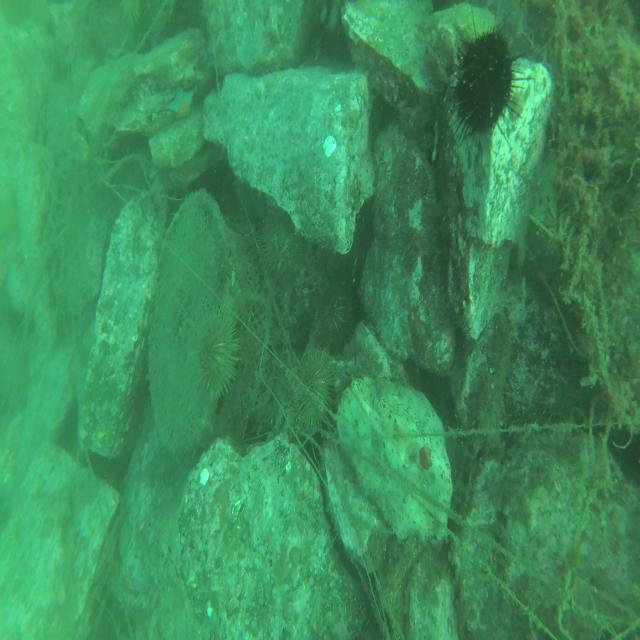echinus: (449, 13, 529, 142), (185, 305, 243, 404), (289, 337, 339, 448), (250, 207, 308, 290), (315, 271, 358, 347)
starfish: (160, 82, 199, 120)
